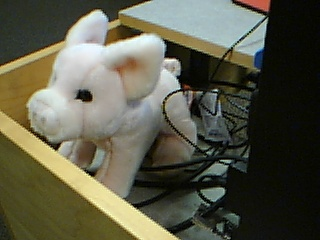piggy: (25, 7, 199, 200)
